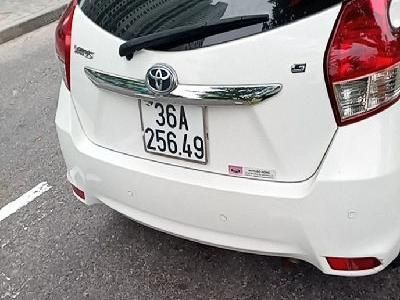lisence: (137, 95, 211, 167)
